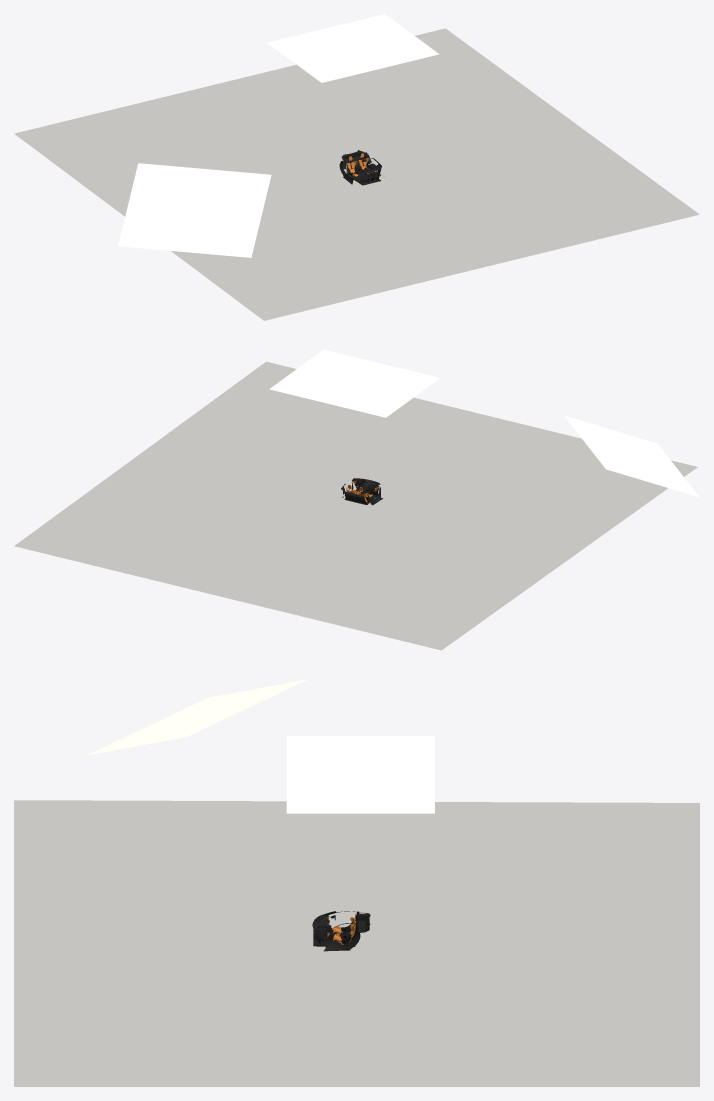
The model's file is car_internals.glb.
3 renders of one model, top to bottom at view 1: azimuth 30°, elevation 25°; view 2: azimuth 150°, elevation 25°; view 3: azimuth 270°, elevation 25°, orthographic. The views are drawn at different scales.
Visible parts, largest first — view 1: Object_4, Object_6.001, Object_6, m:Interior5_Mesh_031_M_Interior_Max_002_m:M_Interior_Max1_0; view 2: Object_4, Object_6, Object_6.001, m:Interior5_Mesh_031_M_Interior_Max_002_m:M_Interior_Max1_0; view 3: Object_4, Object_6, Object_6.001, m:Interior5_Mesh_031_M_Interior_Max_002_m:M_Interior_Max1_0.
Part boxes in pixels (x1,y1,x2,y2): Object_4: (14, 28, 699, 320); Object_6.001: (118, 163, 271, 257); Object_6: (267, 14, 439, 82); m:Interior5_Mesh_031_M_Interior_Max_002_m:M_Interior_Max1_0: (339, 150, 381, 185); Object_4: (14, 361, 697, 650); Object_6: (269, 349, 439, 417); Object_6.001: (564, 415, 699, 497); m:Interior5_Mesh_031_M_Interior_Max_002_m:M_Interior_Max1_0: (341, 478, 382, 505); Object_4: (14, 800, 699, 1086); Object_6: (286, 736, 434, 813); Object_6.001: (87, 679, 307, 755); m:Interior5_Mesh_031_M_Interior_Max_002_m:M_Interior_Max1_0: (312, 911, 370, 951).
Bounding box in the file's own units: 11.71 × 2.75 × 10.13.
Materials: 4 (1 with a texture image).
